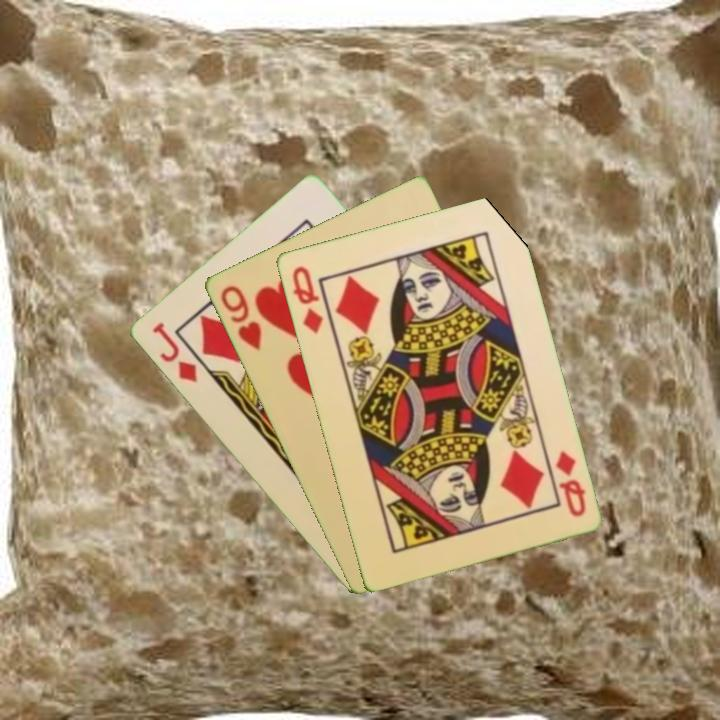9h: (216, 281, 264, 353)
Jd: (148, 318, 200, 386)
Qd: (288, 262, 326, 337), (551, 447, 588, 520)
